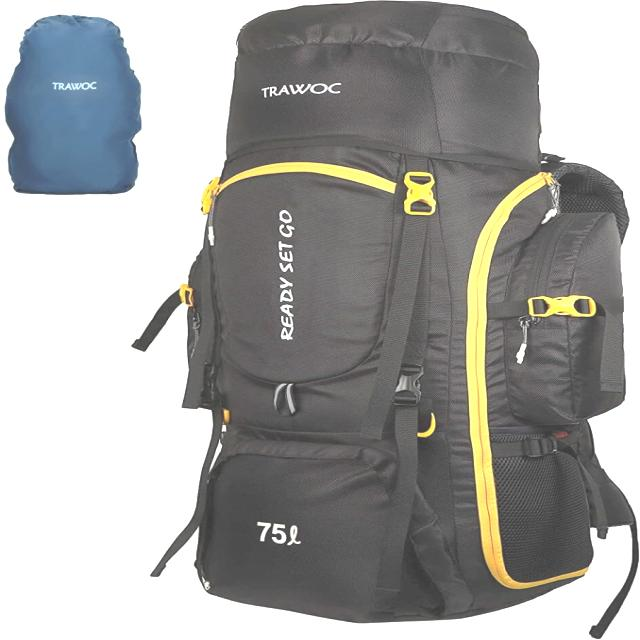backpack: (133, 2, 638, 637)
